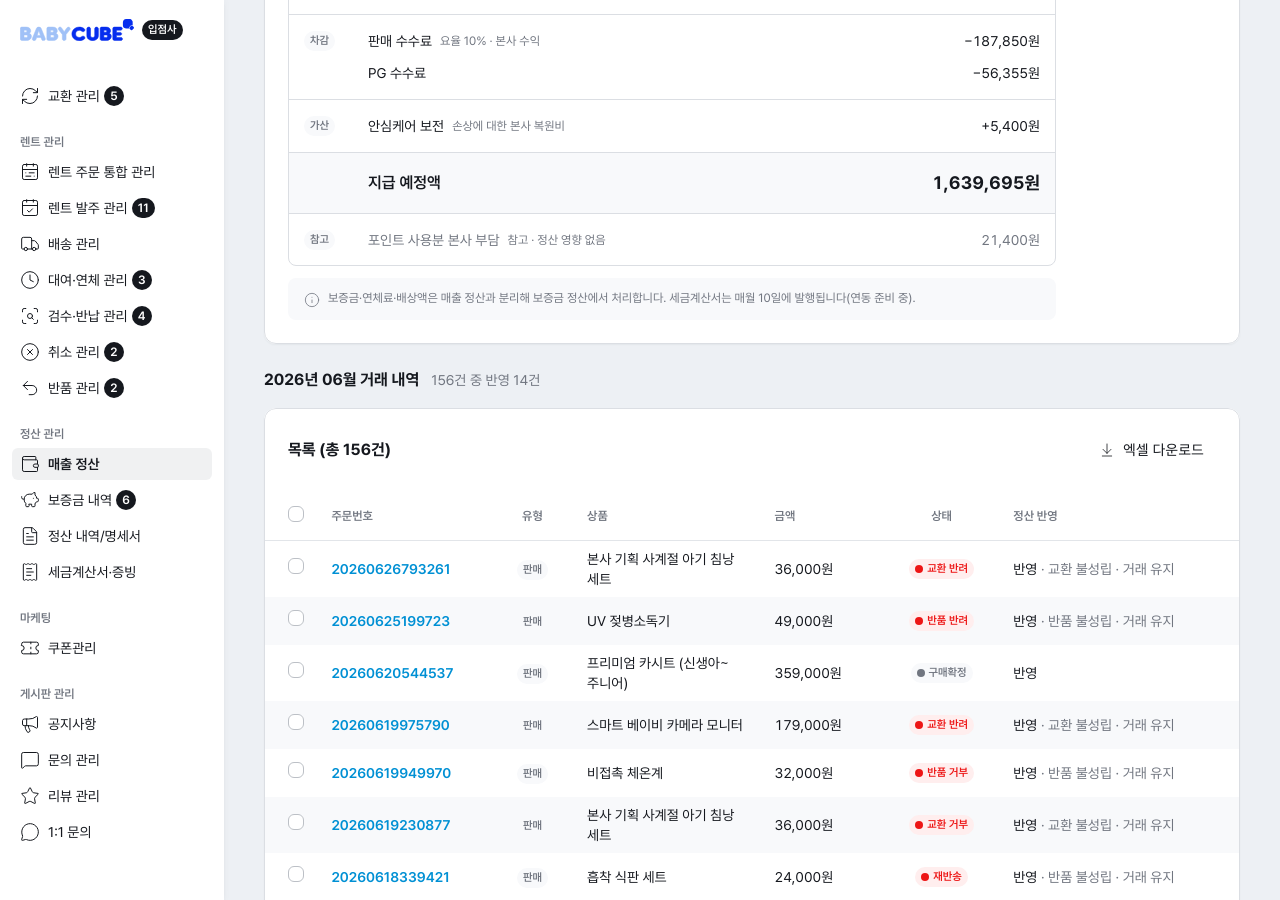
Test: 매출 정산 › 엑셀 — 고른 행이 있으면 그것만
(page scrolled)
Click the button "엑셀 다운로드" at (1152, 450), box [1087,432,1216,468]
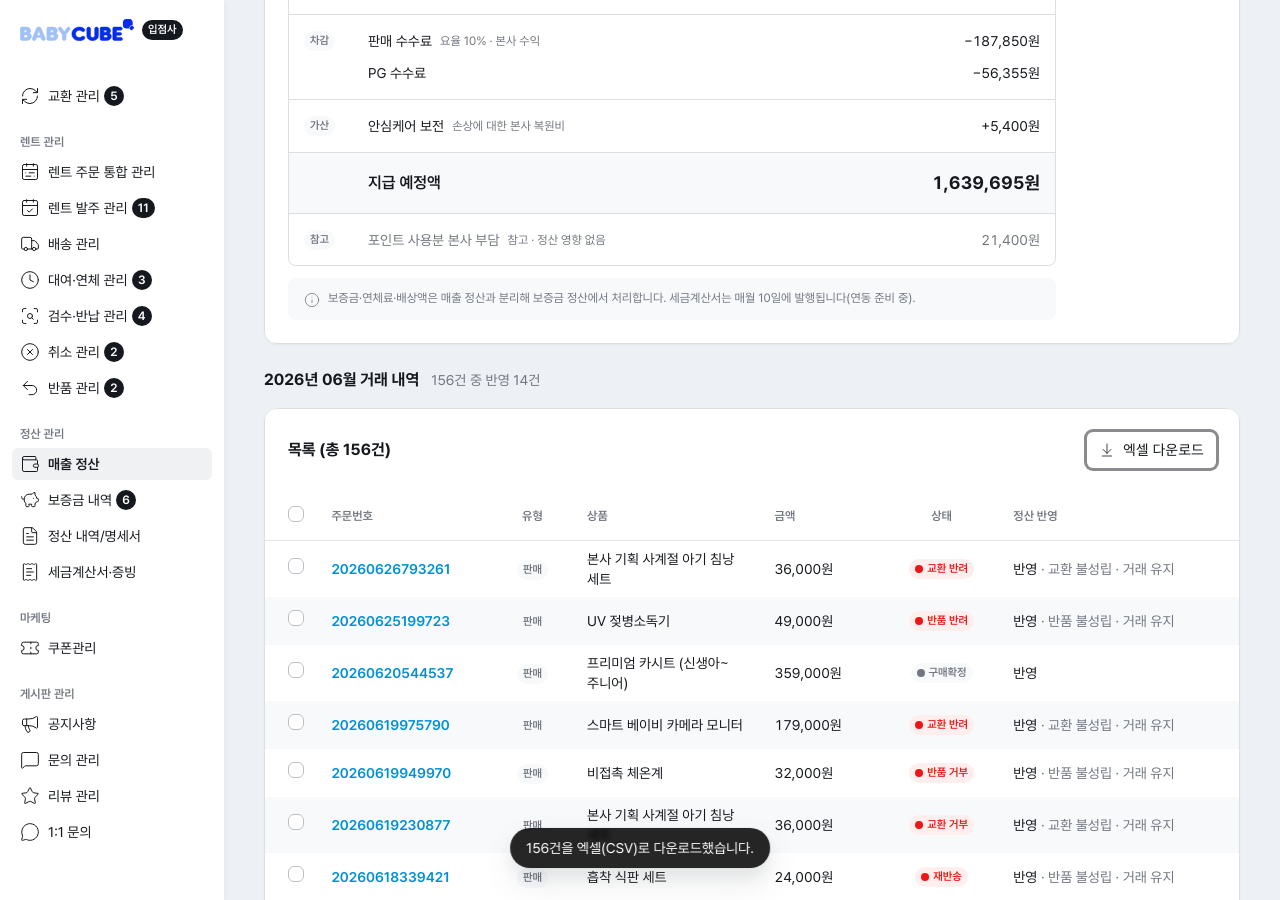
Result: the text "156건을 엑셀(CSV)로 다운로드했습니다." is shown at [510,828,770,868]
Click the checkbox named "20260625199723 UV 젖병소독기 선택" at (296, 618), box [288,610,304,626]
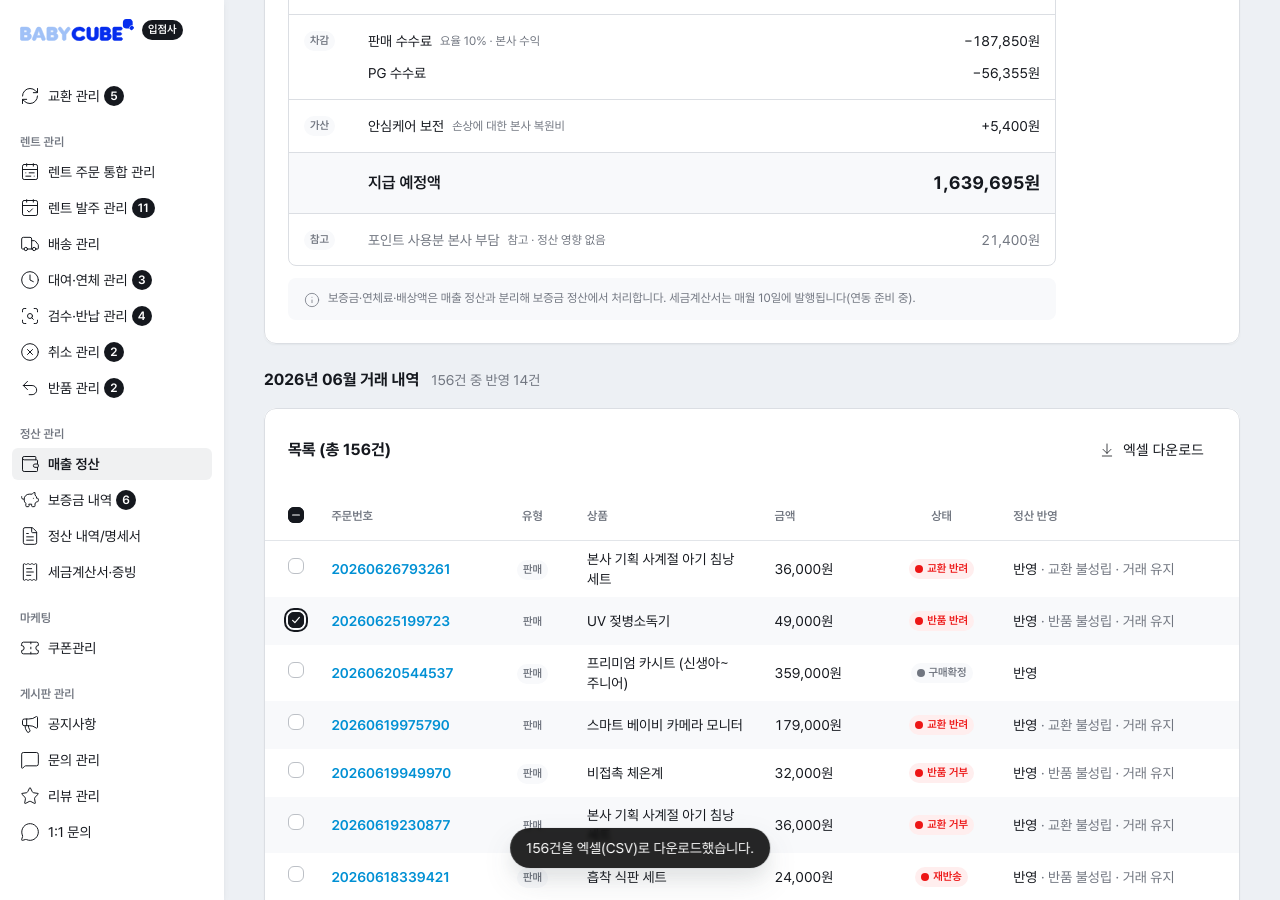
Click the button "엑셀 다운로드" at (1152, 450), box [1087,432,1216,468]
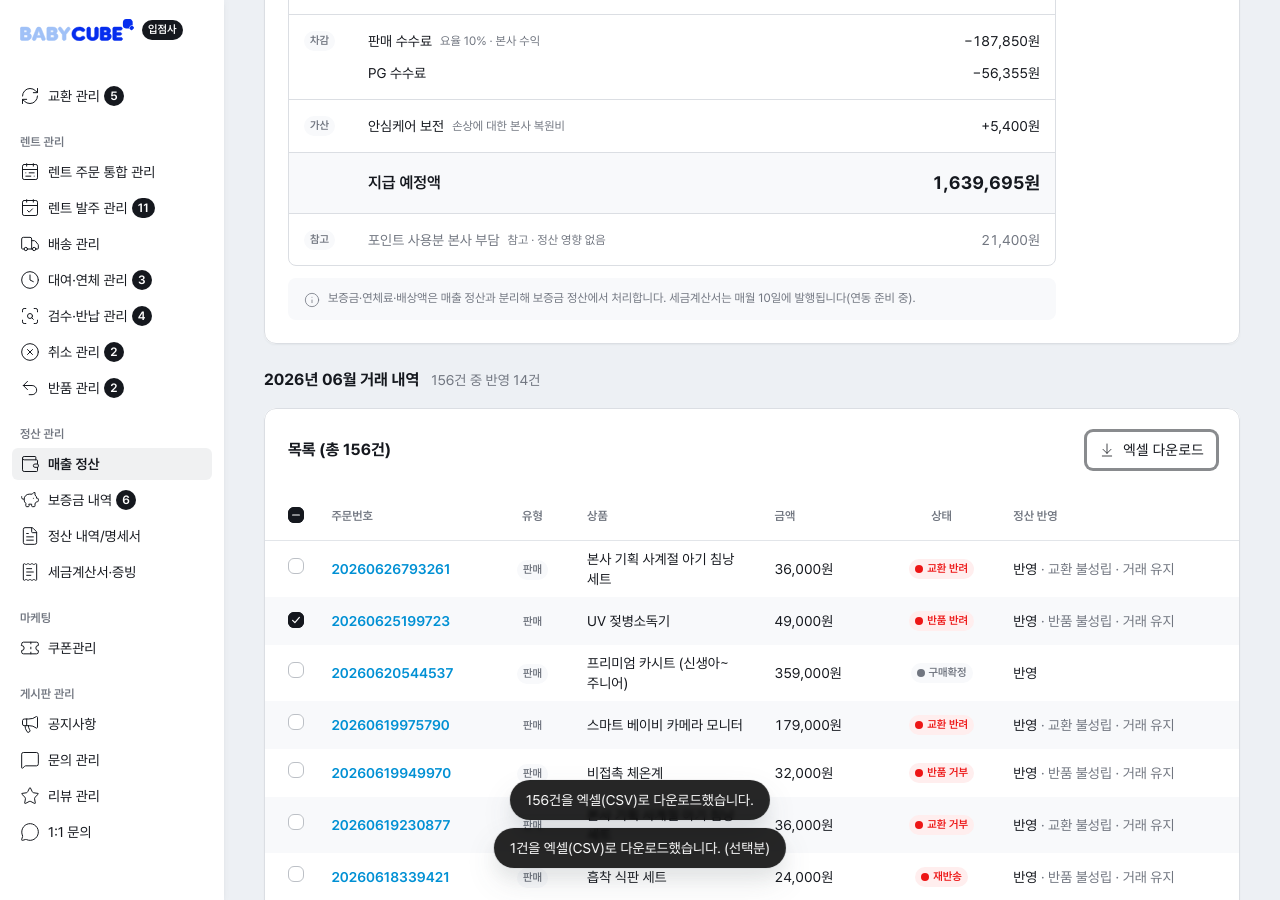
Result: the text "1건을 엑셀(CSV)로 다운로드했습니다. (선택분)" is shown at [494,828,786,868]
